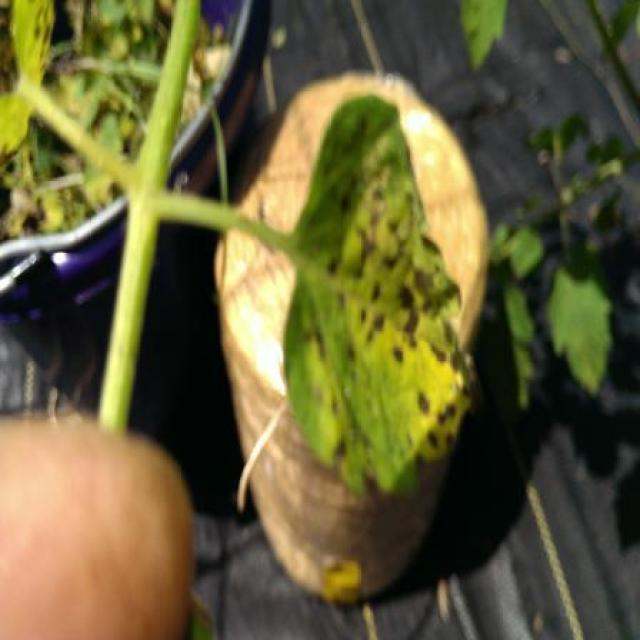Septoria: (277, 87, 484, 506)
